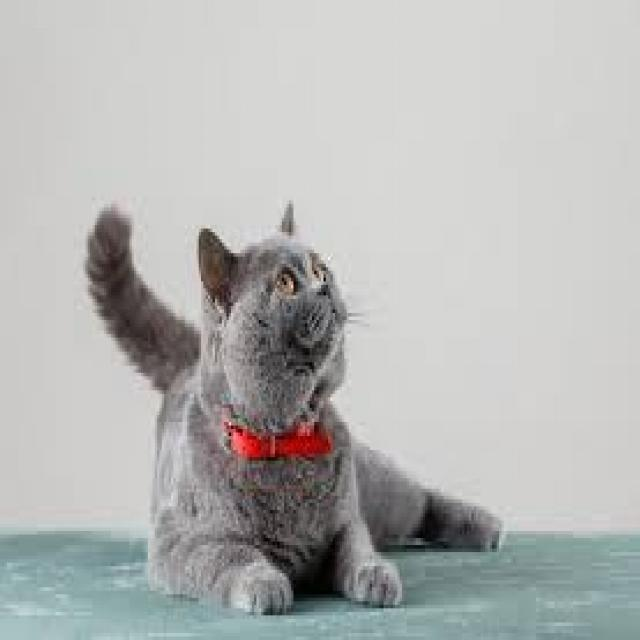Cat: (82, 197, 507, 618)
